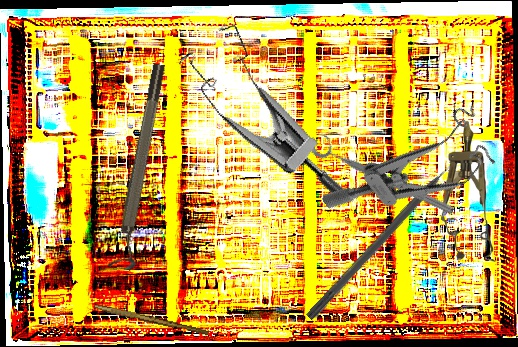Fixation Ring: (106, 62, 178, 272), (307, 129, 460, 219)
Pusher: (305, 148, 469, 323)
Scalpel Handle: (93, 303, 210, 337)
Speculum: (157, 10, 393, 204), (320, 90, 509, 261), (439, 120, 497, 263)
